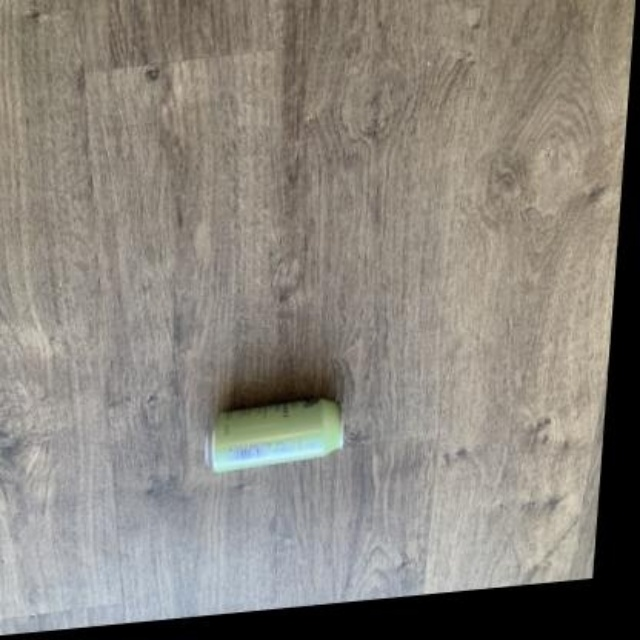trash: (211, 398, 342, 471)
